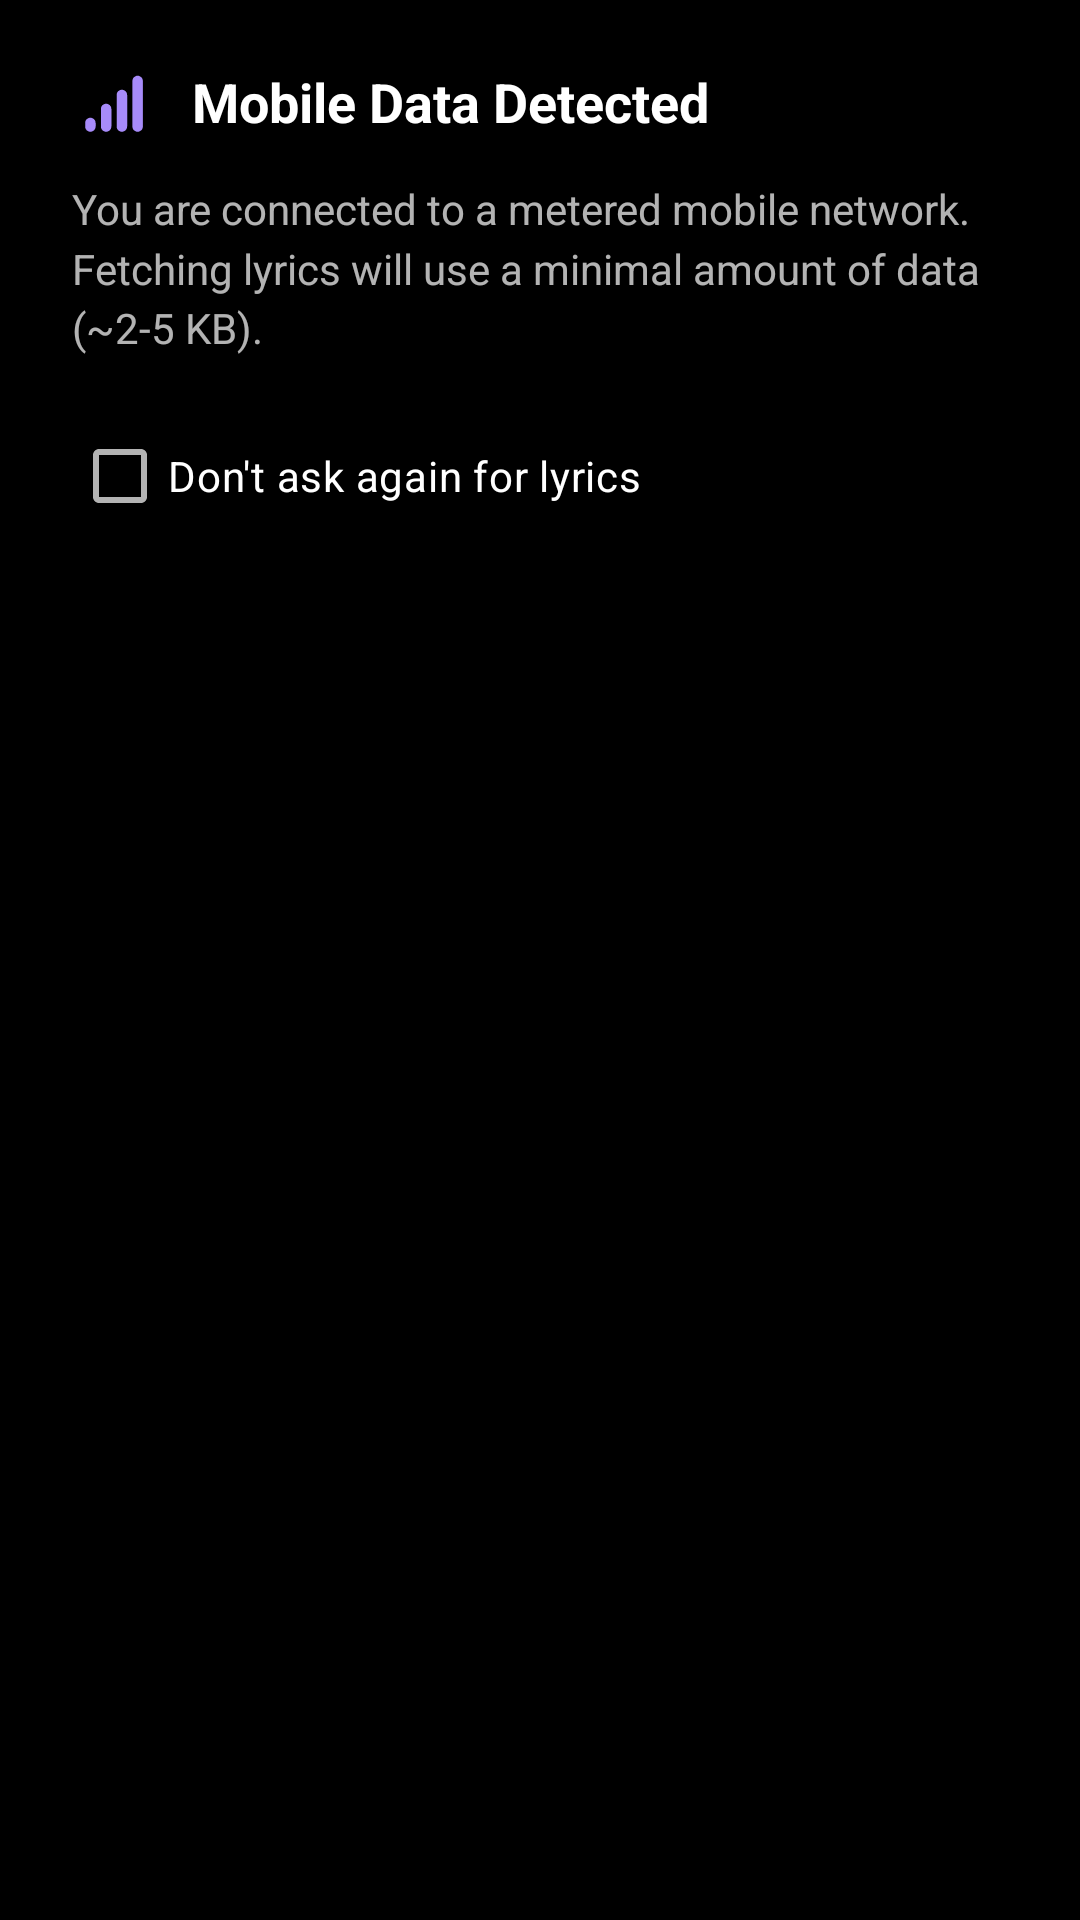

Named icons in this screenshot (1080 × 1920) and their bounding boxes, (x1, y1, x2, y2):
signal cellular: (85, 75, 143, 132)
